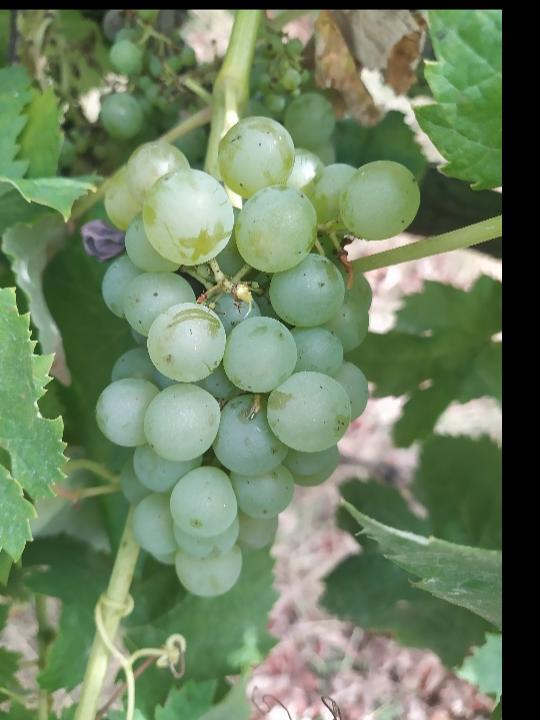grape: (91, 113, 424, 601)
